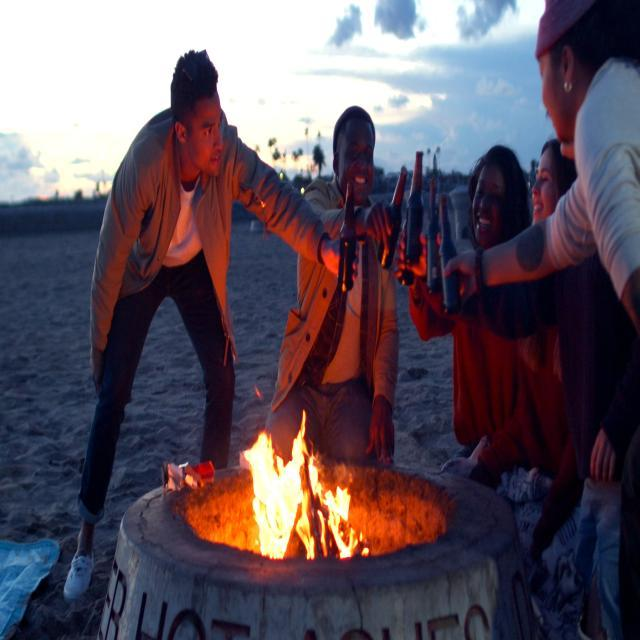Fire: (234, 421, 366, 561)
